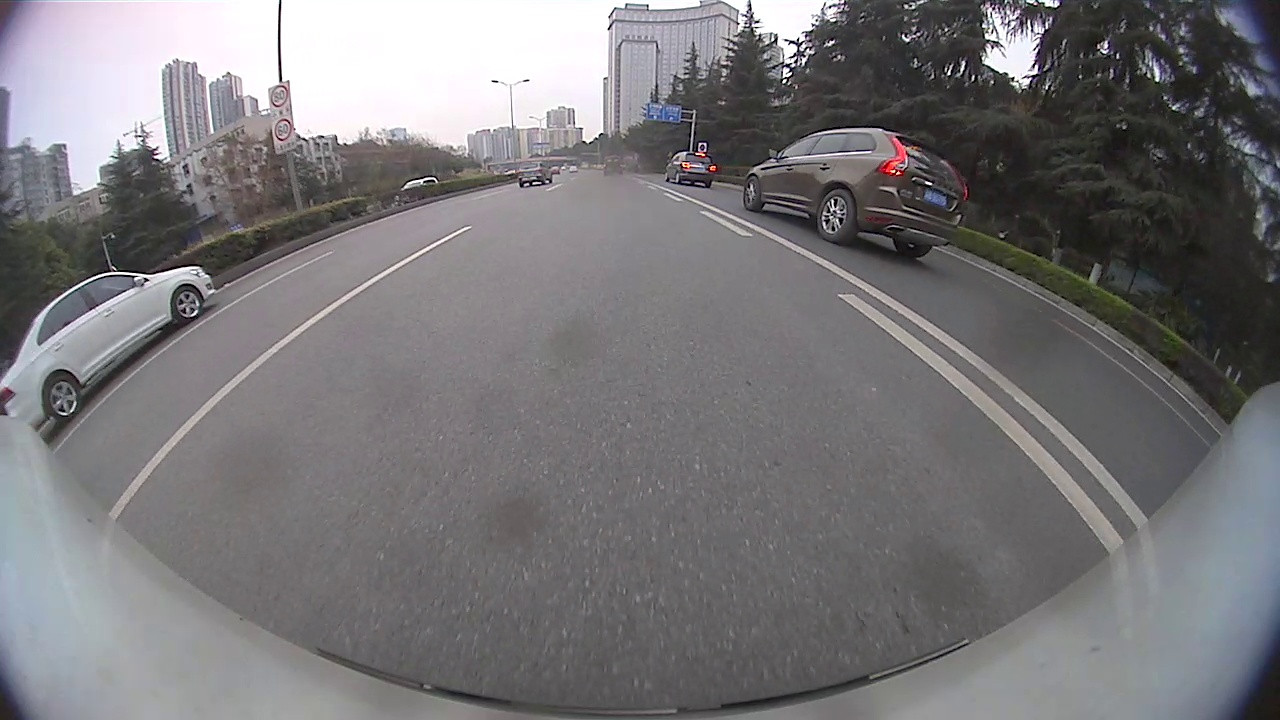car: (0, 266, 217, 427), (740, 127, 971, 260), (662, 150, 716, 187), (515, 158, 554, 190)
front: (171, 288, 202, 322), (741, 177, 764, 210)
rear: (818, 189, 856, 245), (45, 376, 84, 420)
